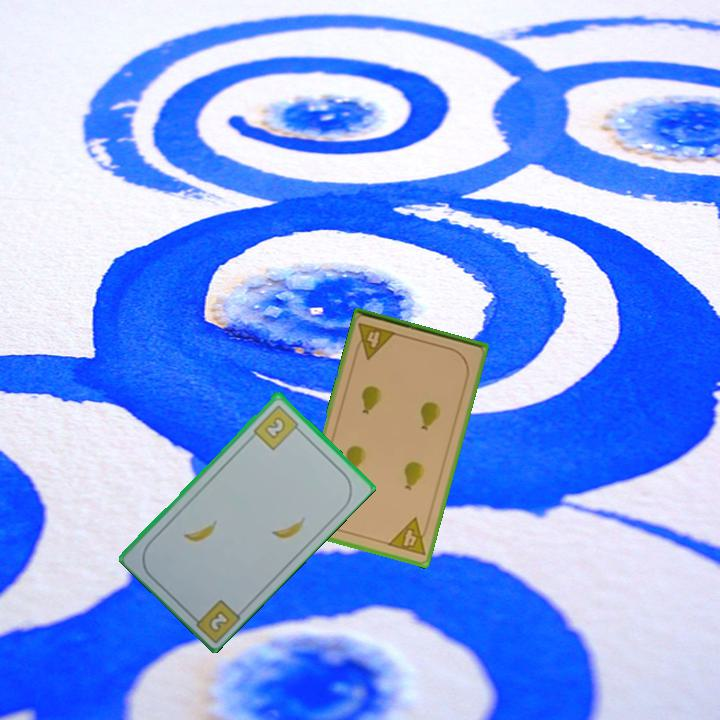2b: (250, 401, 304, 453), (205, 606, 233, 635)
4p: (384, 514, 433, 559), (351, 319, 399, 362)
